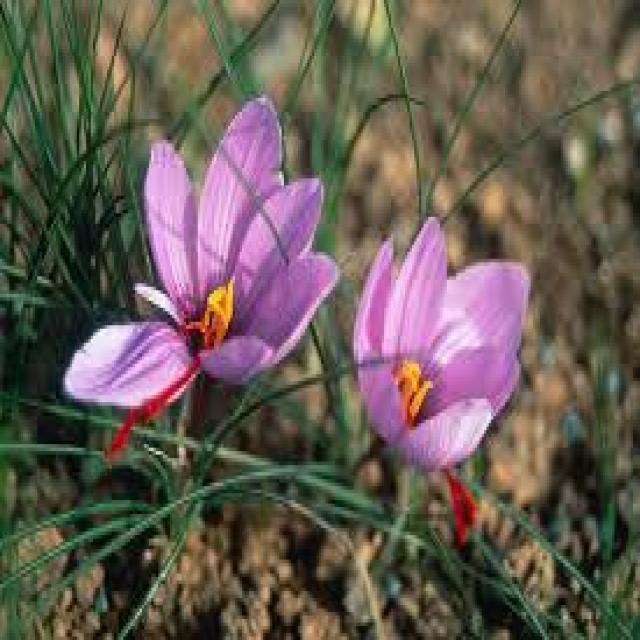Flower: (61, 124, 345, 432), (356, 178, 533, 507)
stigma: (103, 367, 206, 462), (439, 458, 487, 551)
